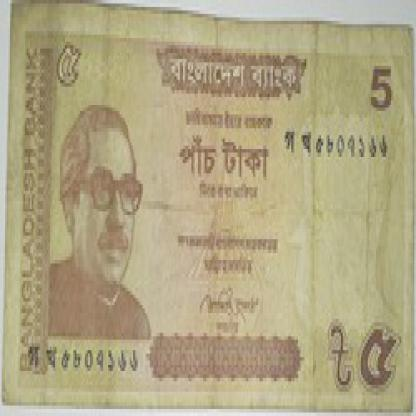Five Taka: (358, 312, 401, 399), (51, 28, 86, 94), (361, 52, 394, 121)
